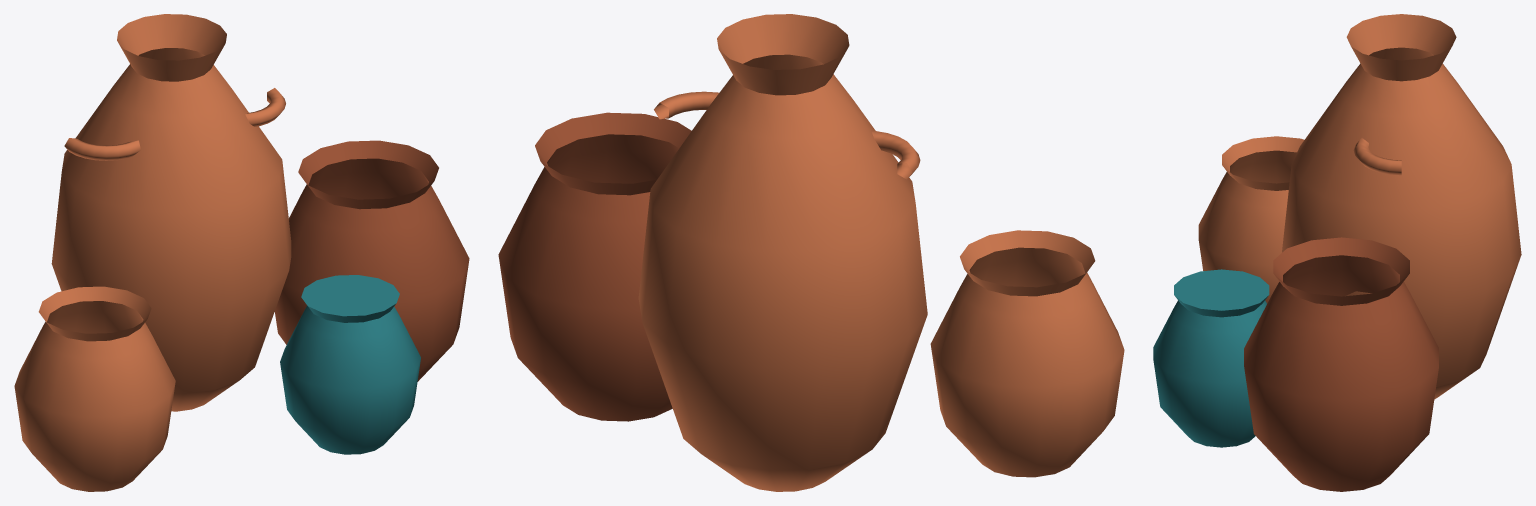
The model's file is mk_jars.glb.
The picture shows the model from 3 angles, left to right: view 1: azimuth 30°, elevation 25°; view 2: azimuth 150°, elevation 25°; view 3: azimuth 270°, elevation 25°; orthographic projection. The views are drawn at different scales.
Parts seen in each view (by area): view 1: mk_jars_body; view 2: mk_jars_body; view 3: mk_jars_body.
Boxes of the visible parts, box(x1,y1,x2,y2) form: mk_jars_body: box(14, 14, 469, 491); mk_jars_body: box(498, 14, 1124, 491); mk_jars_body: box(1153, 14, 1521, 491).
Bounding box in the file's own units: 1.06 × 0.78 × 0.7365.
